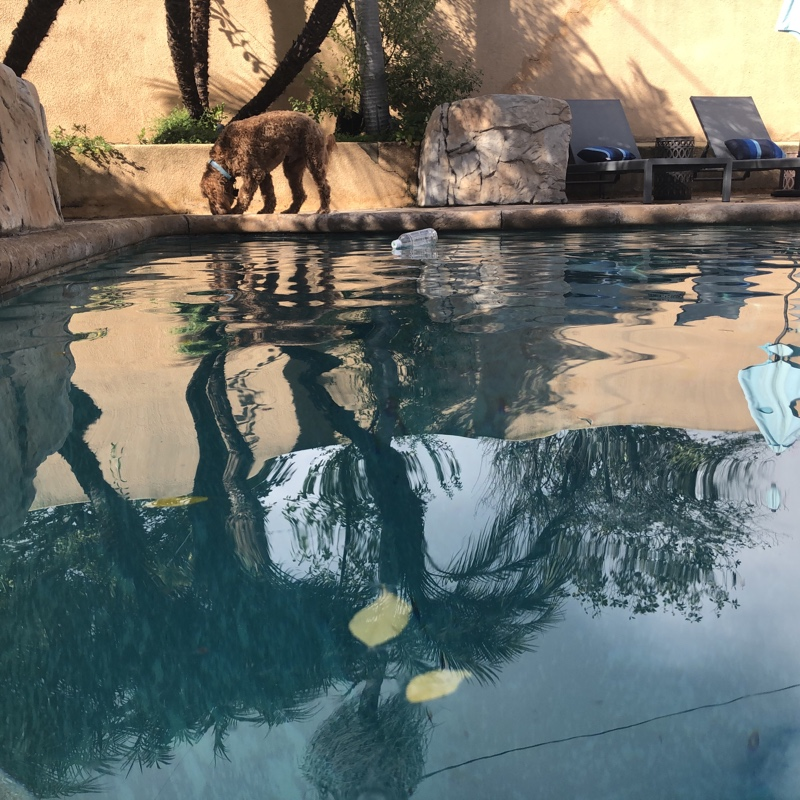Plastic Bottle: (389, 226, 439, 251)
